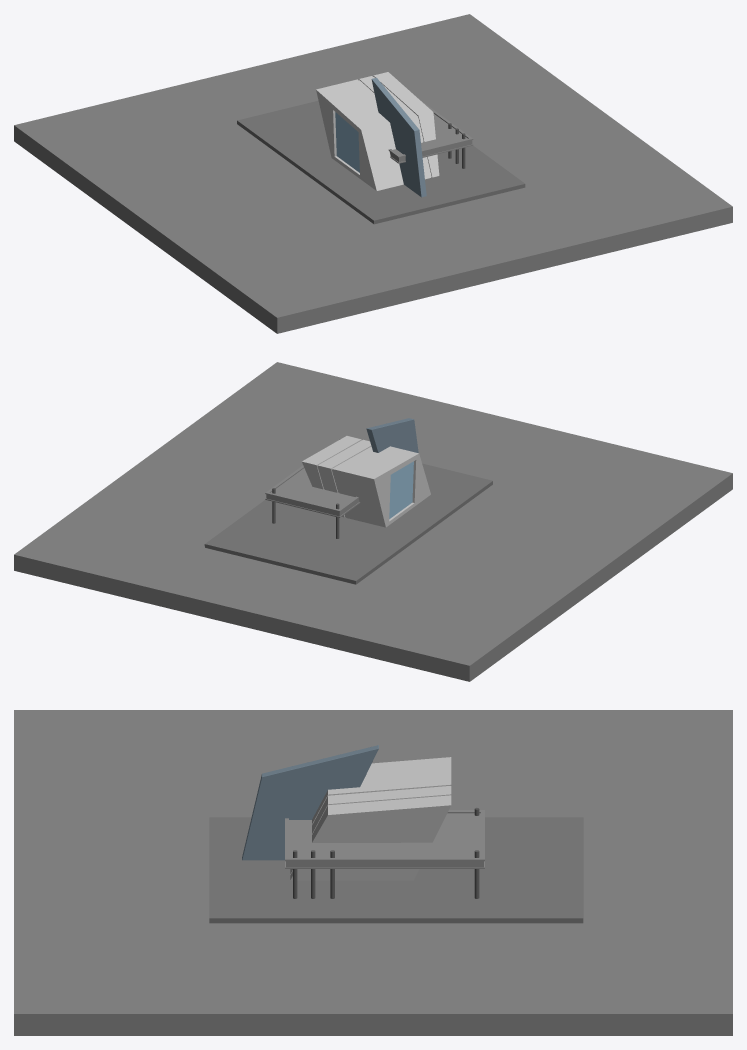
3 views of the same model, one above another, from view 1: azimuth 30°, elevation 25°; view 2: azimuth 150°, elevation 25°; view 3: azimuth 270°, elevation 25° (orthographic). The views are drawn at different scales.
Parts seen in each view (by area): view 1: ground, socle, build, Cube, roof, vitrage; view 2: ground, socle, build, roof, Cube, vitrage; view 3: ground, socle, build, roof, Cube.
Boxes of the visible parts, x1,y1,x2,y2 form: ground: (14, 14, 732, 333); socle: (237, 100, 525, 224); build: (316, 72, 439, 190); Cube: (371, 77, 426, 197); roof: (388, 99, 473, 163); vitrage: (335, 112, 359, 172); ground: (14, 362, 732, 681); socle: (204, 463, 492, 584); build: (301, 436, 430, 527); roof: (265, 439, 360, 517); Cube: (366, 418, 418, 452); vitrage: (389, 461, 413, 518); ground: (14, 710, 732, 1035); socle: (209, 817, 583, 923); build: (290, 757, 451, 880); roof: (285, 810, 484, 868); Cube: (242, 745, 378, 860).
Bounding box in the file's own units: 15.81 × 3.37 × 15.81.
